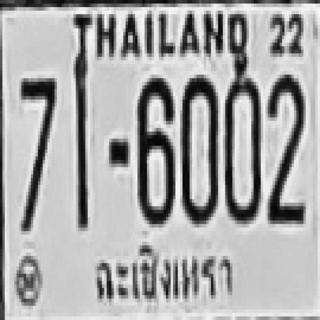N00: (179, 73, 217, 222), (224, 71, 260, 220)
N02: (267, 71, 305, 220), (266, 71, 304, 210)
N06: (135, 75, 173, 220)
N07: (19, 74, 54, 228), (19, 73, 54, 208), (19, 75, 54, 174)
P07: (90, 238, 238, 306)
